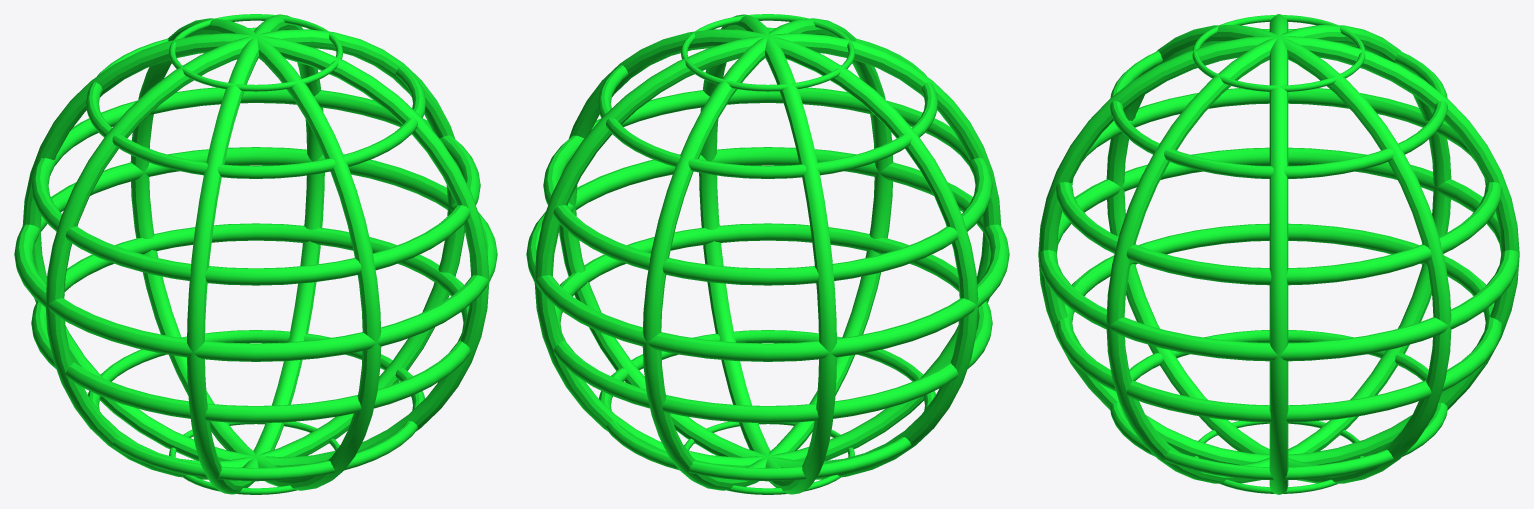
File: Particle-34.dae
The picture shows the model from 3 angles, left to right: view 1: azimuth 30°, elevation 25°; view 2: azimuth 150°, elevation 25°; view 3: azimuth 270°, elevation 25°; orthographic projection.
Parts seen in each view (by area): view 1: Particle; view 2: Particle; view 3: Particle.
Boxes of the visible parts, x1,y1,x2,y2 form: Particle: (14,14,497,494); Particle: (526,14,1009,494); Particle: (1038,14,1519,494).
Size of the model in its own units: 0.104 by 0.104 by 0.104.
